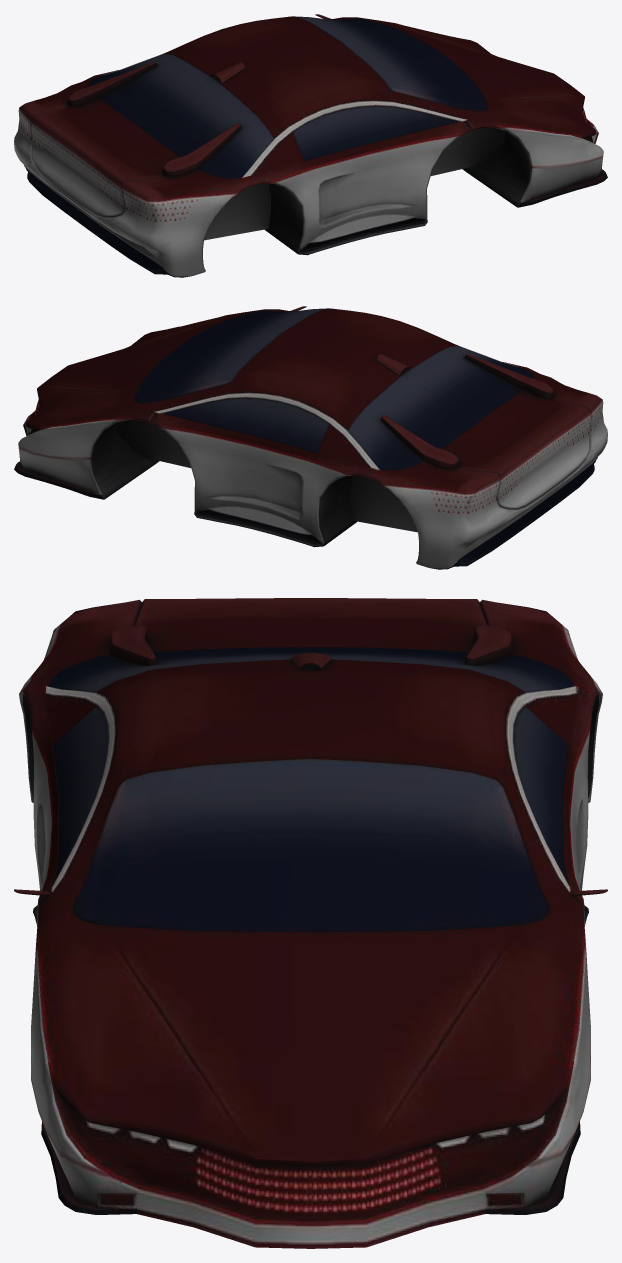
File: f1_car_mercedes_02.dae
The picture shows the model from 3 angles, top to bottom: view 1: azimuth 30°, elevation 25°; view 2: azimuth 150°, elevation 25°; view 3: azimuth 270°, elevation 25°; orthographic projection. The views are drawn at different scales.
Parts seen in each view (by area): view 1: car_body; view 2: car_body; view 3: car_body.
Boxes of the visible parts, left/top/right/bottom form: car_body: left=14, top=14, right=607, bottom=277; car_body: left=14, top=306, right=607, bottom=569; car_body: left=14, top=598, right=607, bottom=1248.
Bounding box in the file's own units: 0.3658 × 0.1927 × 0.0974.
Materials: 1 (1 with a texture image).
